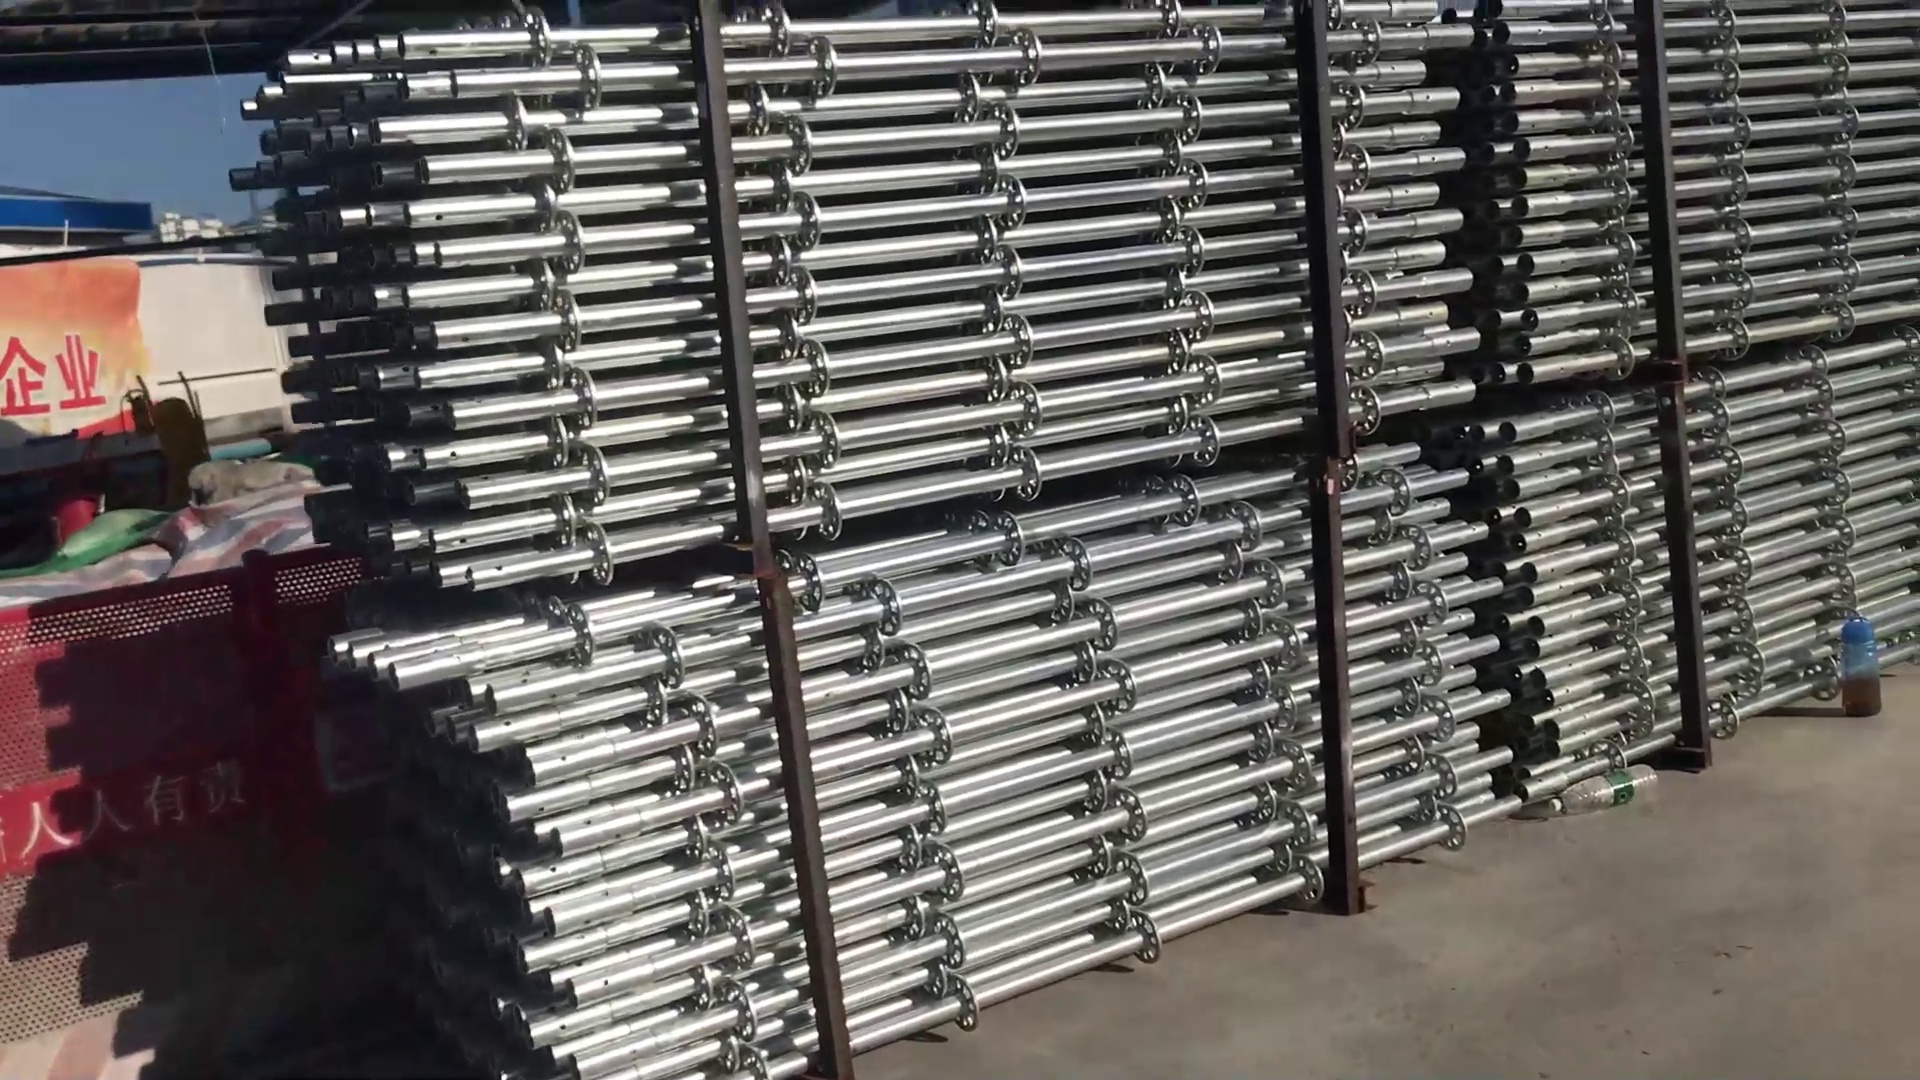fence: (11, 572, 353, 1080)
scaffold: (276, 7, 1505, 1027), (1465, 11, 1919, 808)
